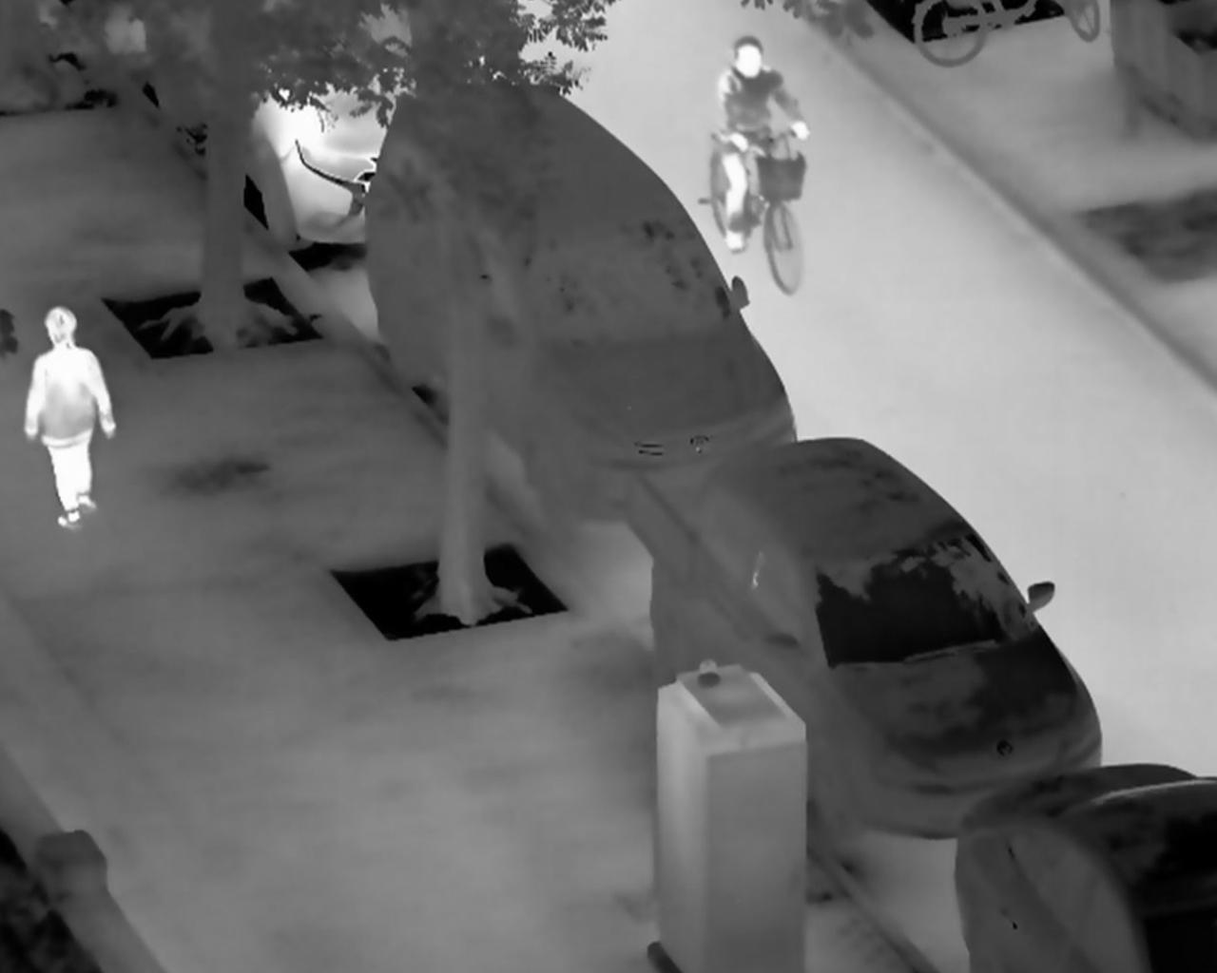person: (715, 30, 815, 254), (23, 303, 118, 533)
